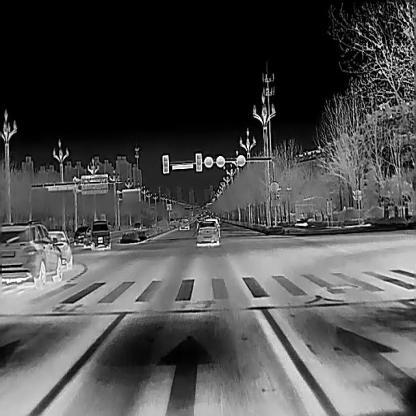car: (0, 218, 62, 290), (42, 228, 73, 270), (89, 218, 111, 250), (195, 219, 220, 246), (71, 224, 93, 244), (178, 217, 190, 230), (133, 221, 142, 229)
